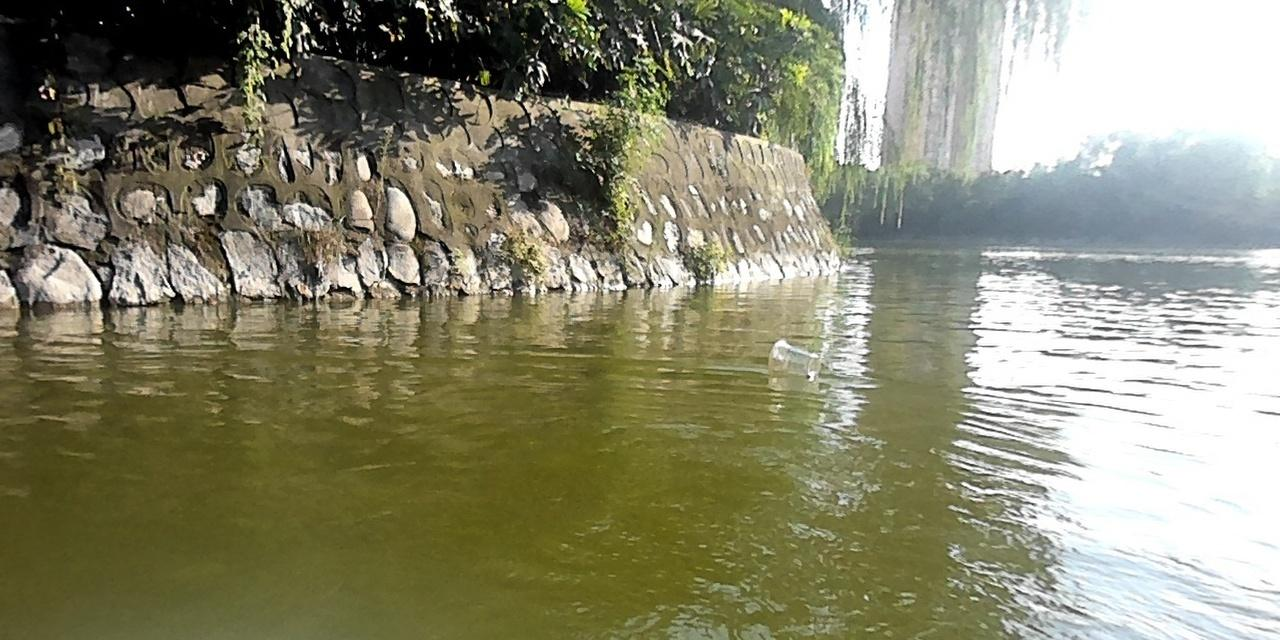bottle: (767, 335, 822, 380)
